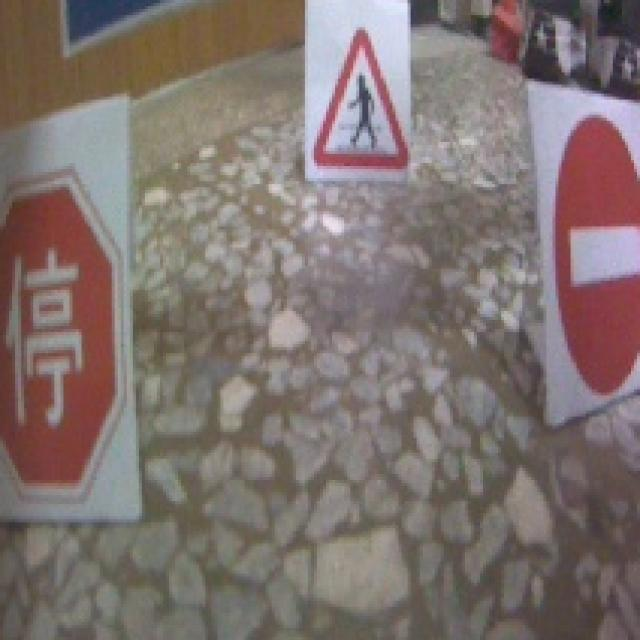DoNotEnterSign: (555, 112, 640, 396)
